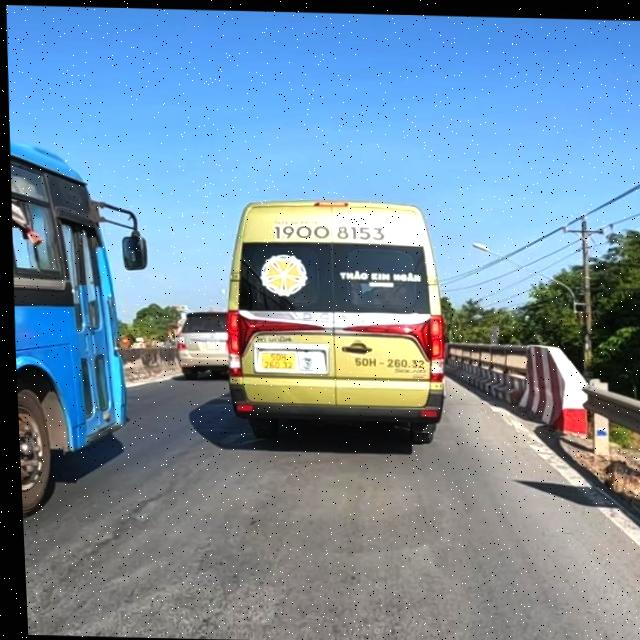car: (216, 194, 459, 454), (164, 304, 232, 382)
plate: (253, 344, 300, 377)
